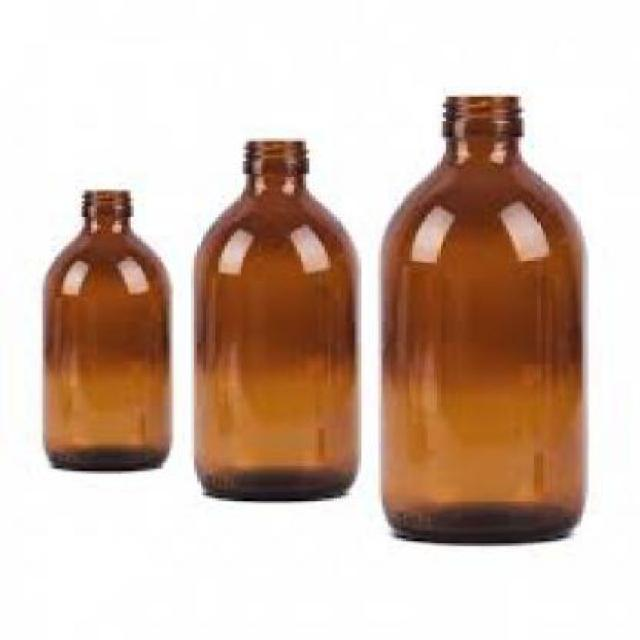kaca: (380, 94, 586, 541), (191, 137, 358, 498), (34, 188, 166, 469)
